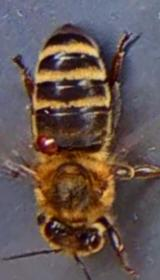varroa_mite: (26, 127, 66, 160)
